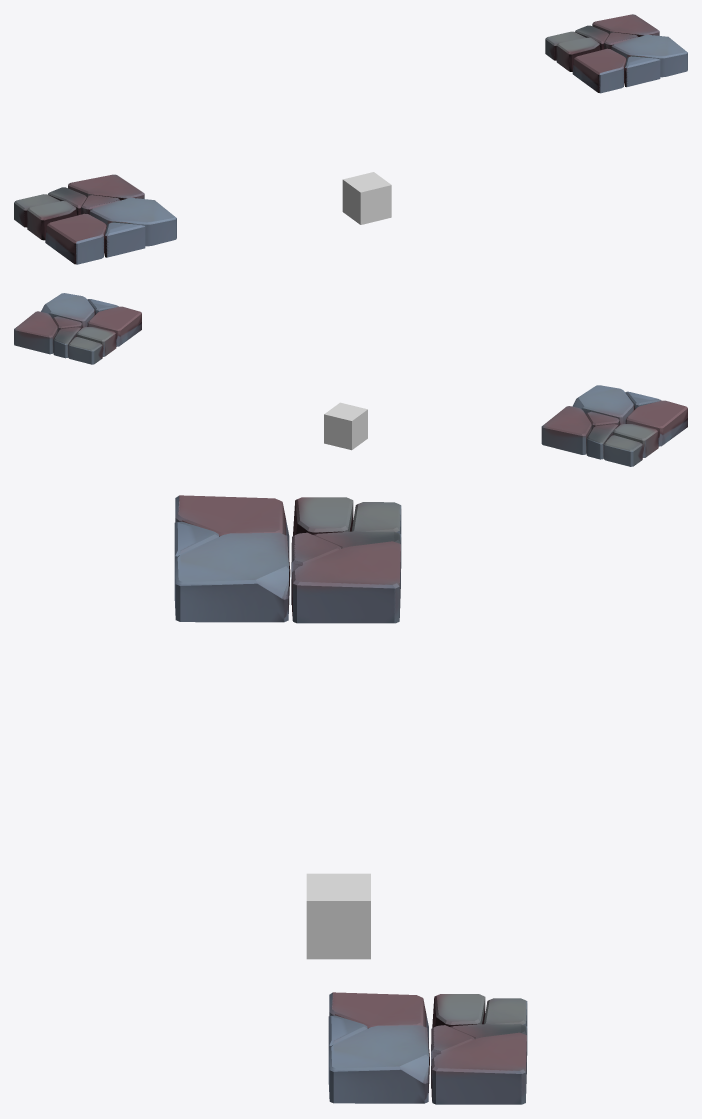
The model's file is trade-floor009.fbx.
3 views of the same model, one above another, from view 1: azimuth 30°, elevation 25°; view 2: azimuth 150°, elevation 25°; view 3: azimuth 270°, elevation 25° (orthographic). The views are drawn at different scales.
Parts seen in each view (by area): view 1: Plane.026, Plane.025, trade-floor009; view 2: Plane.026, Plane.025, trade-floor009; view 3: Plane.026, Plane.025, trade-floor009.
Part boxes in pixels (<box>): Plane.026: <box>14,174,176,264</box>; Plane.025: <box>545,14,687,93</box>; trade-floor009: <box>342,172,391,224</box>; Plane.026: <box>541,385,687,466</box>; Plane.025: <box>14,293,141,364</box>; trade-floor009: <box>324,402,367,450</box>; Plane.026: <box>174,495,401,623</box>; Plane.025: <box>328,992,527,1104</box>; trade-floor009: <box>306,873,370,959</box>.
Size of the model in its own units: 1646 by 214 by 427.
